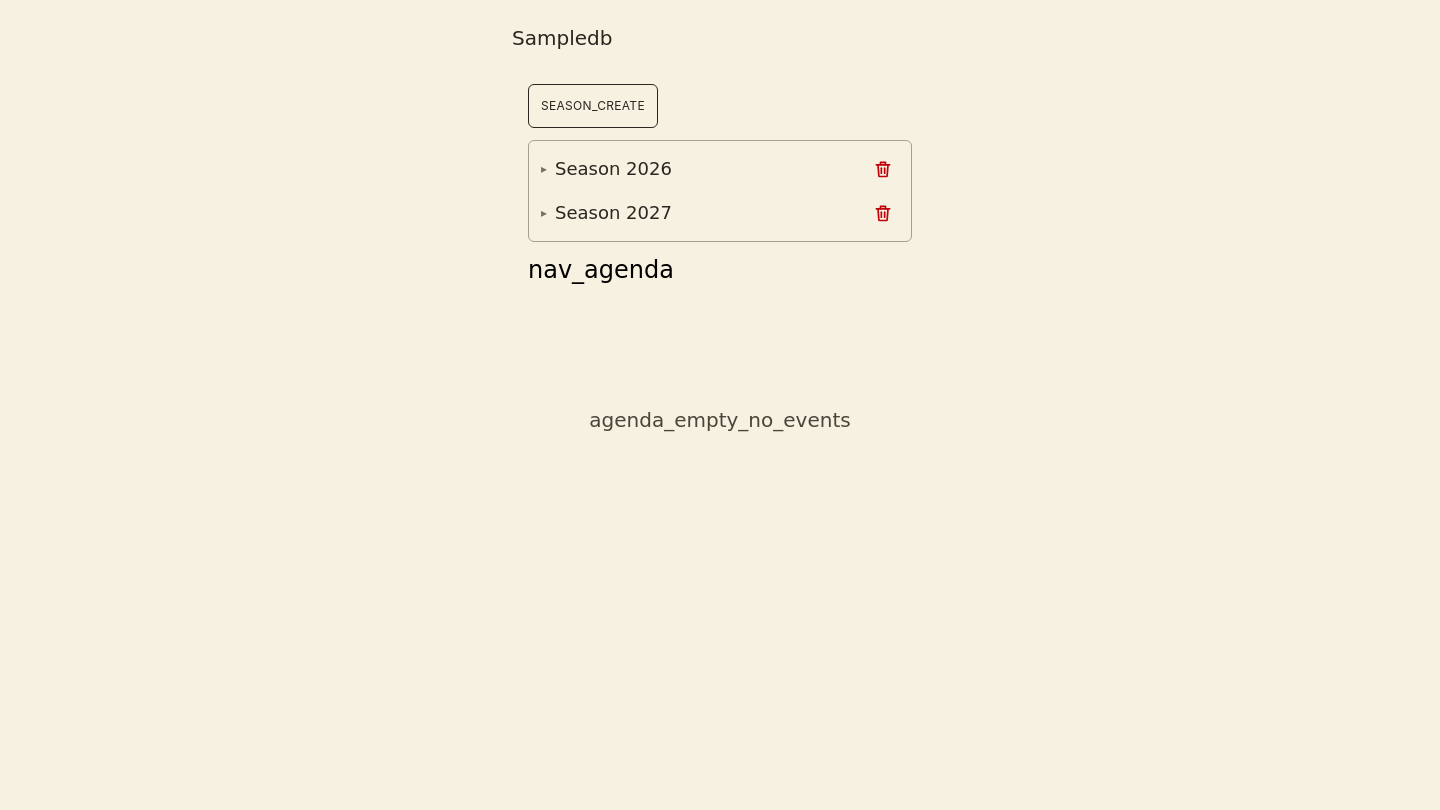
season card #277 — one entry per manageable season, not a picker › opening the UPCOMING season’s entry loads THAT season: series + repertoire reads use ITS id, the fields are ITS fields, and the visible label names it (criteria
Click the button with test id "season-card-expand" at [694, 213], box [535,191,853,235]
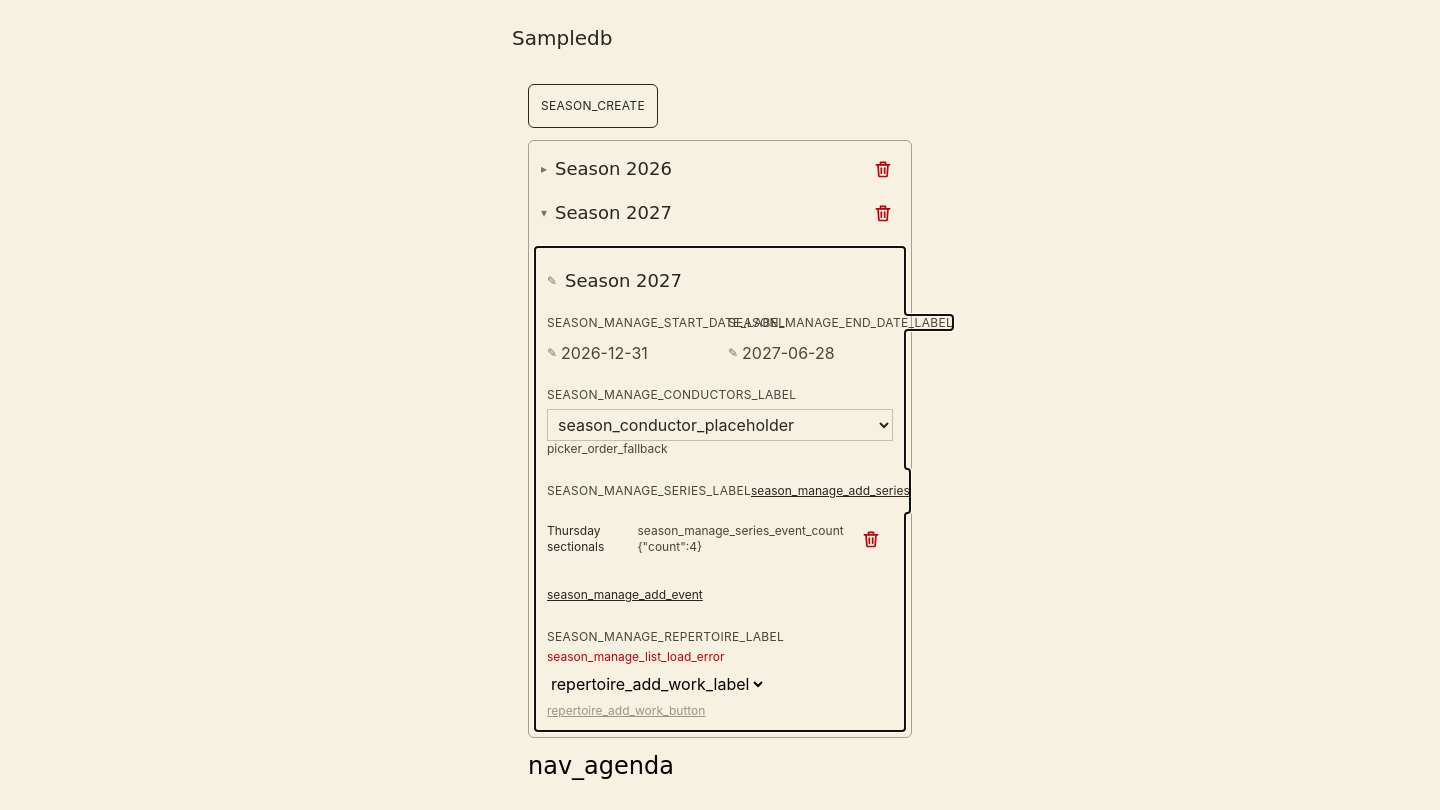
Expected: the 1st text "Season 2027" is shown, [555,199,672,227]
Expected: the 2nd text "Season 2027" is shown, [565,267,682,295]
